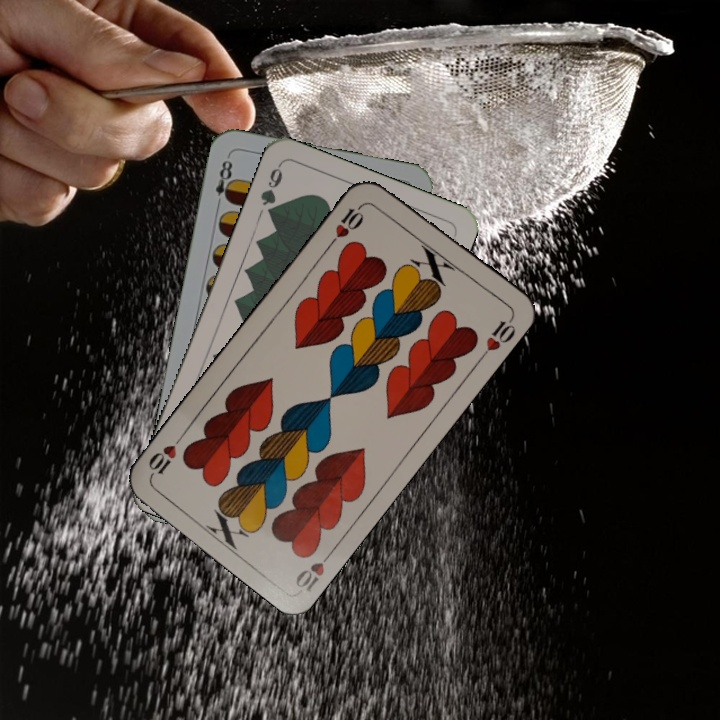E8: (211, 156, 237, 211)
G9: (256, 161, 285, 221)
H10: (291, 544, 338, 596), (325, 199, 367, 249)
